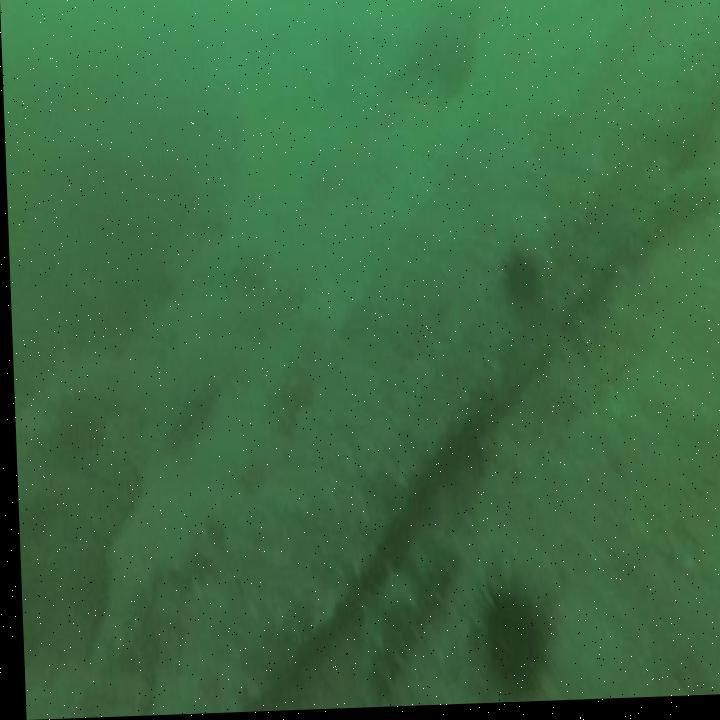echinus: (482, 597, 538, 689), (501, 255, 536, 314)
holothurian: (347, 526, 452, 703)
